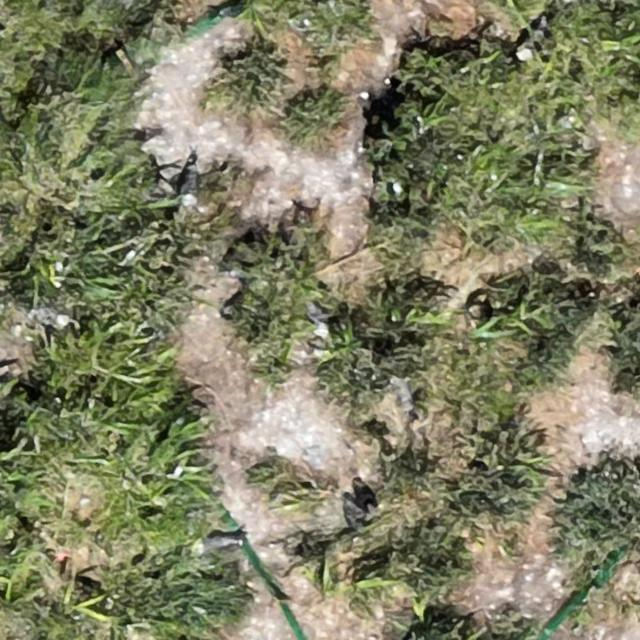umineko: (192, 533, 245, 555), (517, 21, 546, 60)
